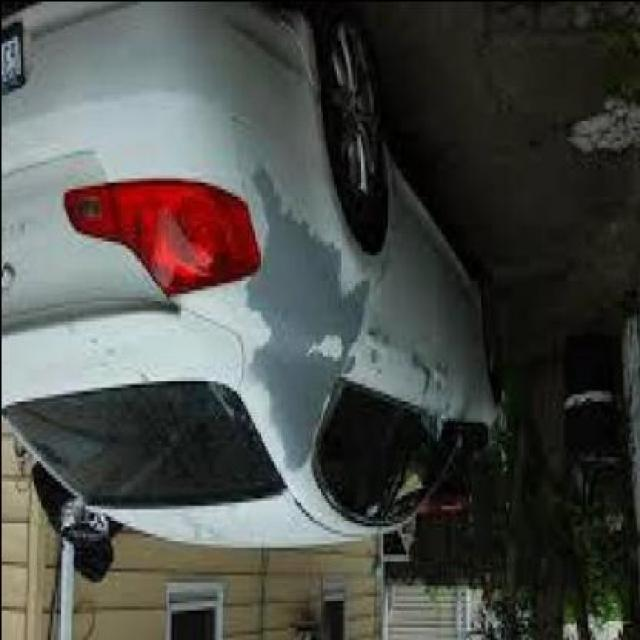damage: (232, 162, 386, 477)
